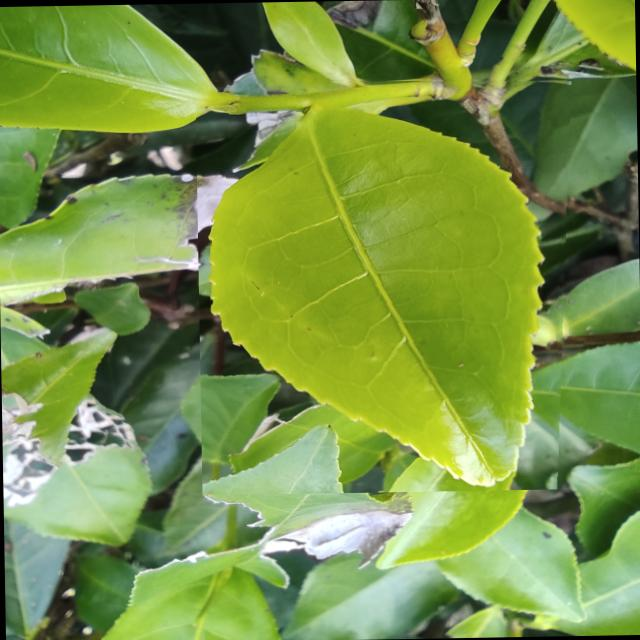Category B(2-4 days): (195, 74, 578, 494)
